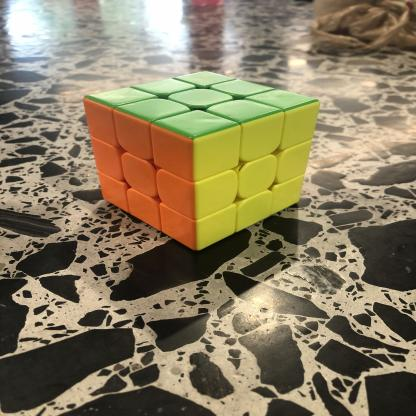SolvedCube: (72, 57, 326, 256)
